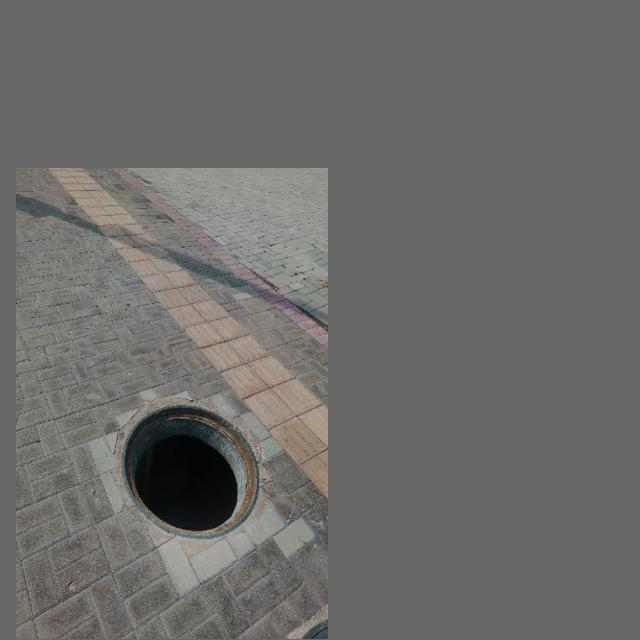lose: (122, 403, 261, 537)
